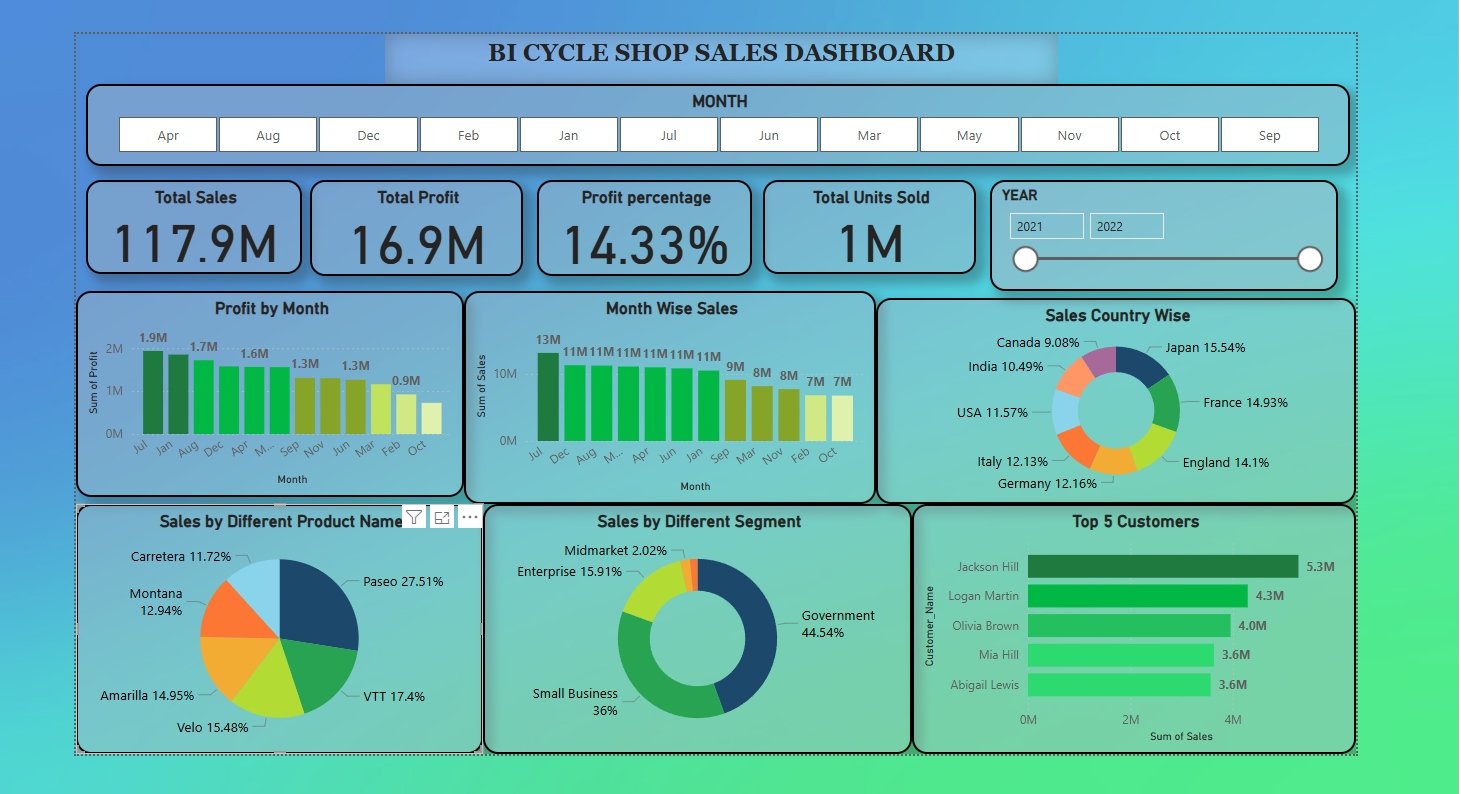

The dashboard page shown, as its layout file describes it:
{"tool":"powerbi","page":{"name":"Page 1","canvas":[1280,720],"ordinal":0},"visuals":[{"type":"card","title":"Total Sales","fields":{"Values":["Bicycle Shop Sales.Sales"]},"box":[9.7,145.9,215.9,94.3],"z":0},{"type":"card","title":"Total Profit","fields":{"Values":["Bicycle Shop Sales.Profit"]},"box":[234.4,145.9,213,96.3],"z":1000},{"type":"card","title":"Total Units Sold","fields":{"Values":["Bicycle Shop Sales.Units Sold"]},"box":[686.7,145.9,213,94.3],"z":2000},{"type":"card","title":"Profit percentage","fields":{"Values":["Bicycle Shop Sales.profit%"]},"box":[461,146,215,96],"z":3000},{"type":"clusteredColumnChart","title":"Profit by Month","fields":{"Y":["Bicycle Shop Sales.Profit"],"Category":["Bicycle Shop Sales.Month"]},"box":[0,256.8,388.1,206.2],"z":4000},{"type":"clusteredColumnChart","title":" Month Wise Sales","fields":{"Category":["Bicycle Shop Sales.Month"],"Y":["Bicycle Shop Sales.Sales"]},"box":[388.1,256.8,412.4,213],"z":5000},{"type":"donutChart","title":"Sales  Country Wise","fields":{"Y":["Bicycle Shop Sales.Sales"],"Category":["Bicycle Shop Sales.Country"]},"box":[800.5,263.6,479.5,206.2],"z":6000},{"type":"pieChart","title":" Sales by Different Product Name","fields":{"Y":["Bicycle Shop Sales.Sales"],"Category":["Bicycle Shop Sales.Product_Name"]},"box":[0,469.8,406.6,250],"z":7000},{"type":"donutChart","title":" Sales by Different Segment","fields":{"Y":["Bicycle Shop Sales.Sales"],"Category":["Bicycle Shop Sales.Segment"]},"box":[406.6,469.8,428.9,250],"z":8000},{"type":"clusteredBarChart","title":"Top 5 Customers","fields":{"Category":["Bicycle Shop Sales.Customer_Name"],"Y":["Bicycle Shop Sales.Sales"]},"box":[835.5,469.8,444.5,250],"z":9000},{"type":"slicer","title":"MONTH","fields":{"Values":["Bicycle Shop Sales.Month"]},"box":[9.7,49.6,1264.4,82.7],"z":10000},{"type":"textbox","box":[309,0,673.4,50.1],"z":11000},{"type":"slicer","title":"YEAR","fields":{"Values":["Bicycle Shop Sales.Year"]},"box":[914,146,348,111],"z":12000}]}

Visuals, with their boxes on the page's 1280x720 design canvas (x1, y1, x2, y2). These are canvas units, not pixel positions in the 1461x794 screenshot, which may show the page scaled, cropped or inside an application window:
"Total Sales" card: (left=10, top=146, right=226, bottom=240)
"Total Profit" card: (left=234, top=146, right=447, bottom=242)
"Total Units Sold" card: (left=687, top=146, right=900, bottom=240)
"Profit percentage" card: (left=461, top=146, right=676, bottom=242)
"Profit by Month" clusteredColumnChart: (left=0, top=257, right=388, bottom=463)
" Month Wise Sales" clusteredColumnChart: (left=388, top=257, right=800, bottom=470)
"Sales  Country Wise" donutChart: (left=800, top=264, right=1280, bottom=470)
" Sales by Different Product Name" pieChart: (left=0, top=470, right=407, bottom=720)
" Sales by Different Segment" donutChart: (left=407, top=470, right=836, bottom=720)
"Top 5 Customers" clusteredBarChart: (left=836, top=470, right=1280, bottom=720)
"MONTH" slicer: (left=10, top=50, right=1274, bottom=132)
textbox: (left=309, top=0, right=982, bottom=50)
"YEAR" slicer: (left=914, top=146, right=1262, bottom=257)
